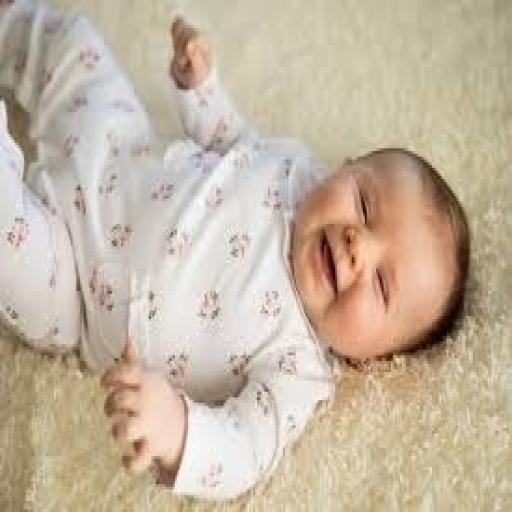laughing: (4, 6, 476, 498)
